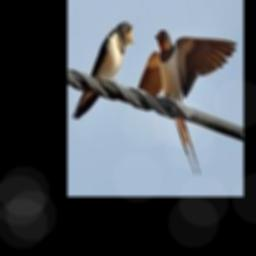Swallow: (137, 30, 237, 175), (71, 23, 134, 120)
